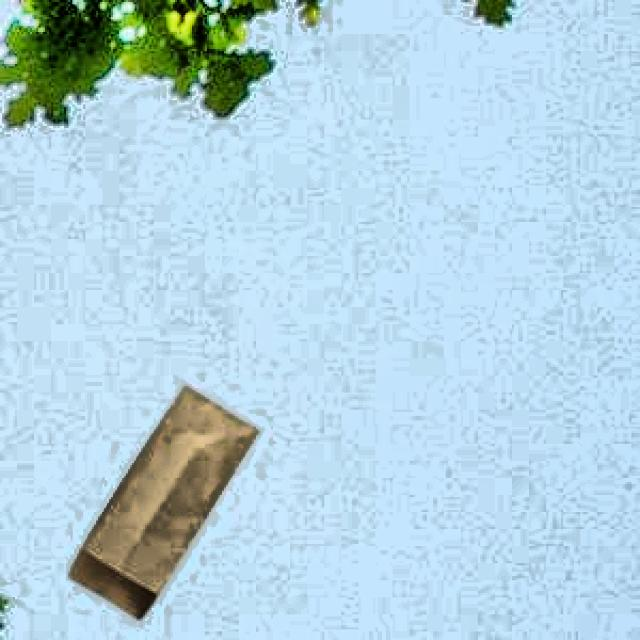Paper-bag: (54, 374, 261, 630)
